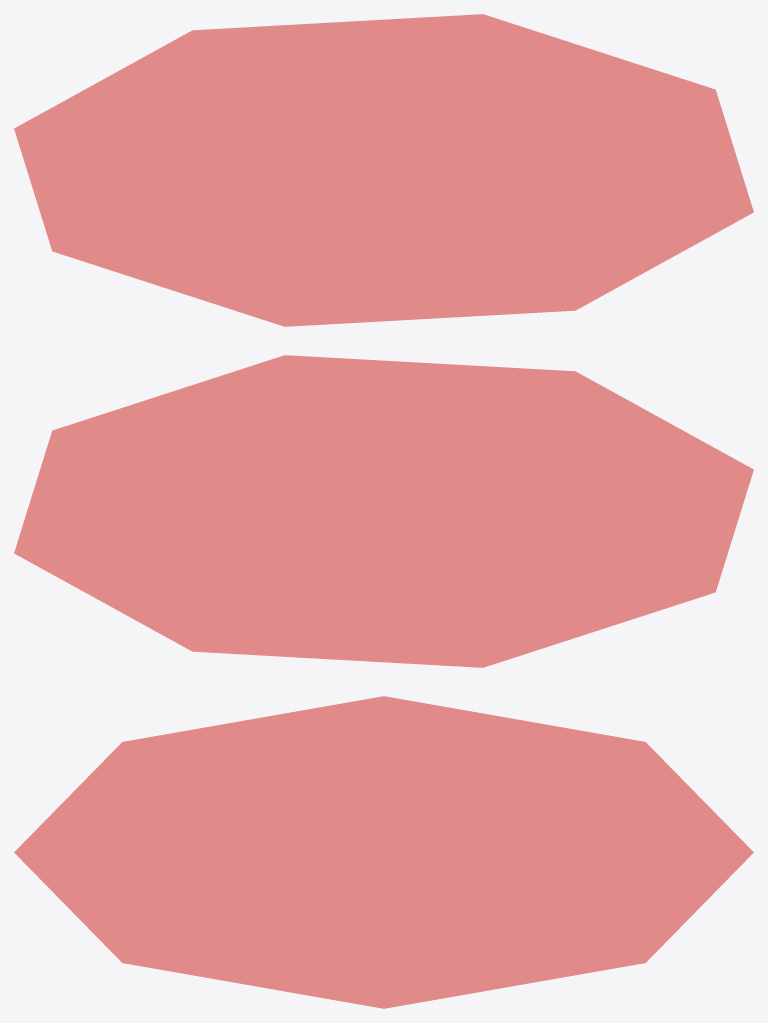
Rendered from entity430304.gltf.
3 views of the same model, one above another, from view 1: azimuth 30°, elevation 25°; view 2: azimuth 150°, elevation 25°; view 3: azimuth 270°, elevation 25° (orthographic). The views are drawn at different scales.
Parts seen in each view (by area): view 1: node_pCylinder35; view 2: node_pCylinder35; view 3: node_pCylinder35.
Part boxes in pixels (x1,y1,x2,y2): node_pCylinder35: (14, 14, 753, 326); node_pCylinder35: (14, 355, 753, 667); node_pCylinder35: (14, 696, 753, 1008).
Size of the model in its own units: 4 by 0 by 4.
